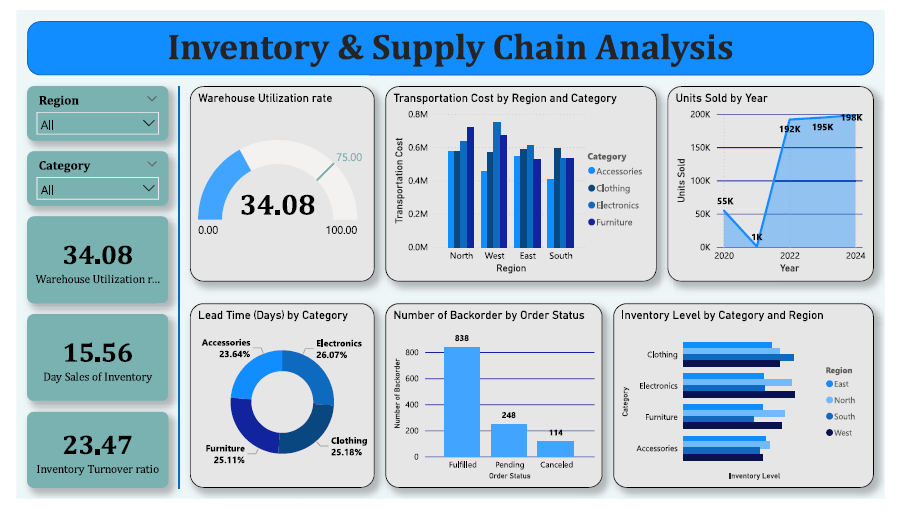

What the dashboard file says about the page in this screenshot:
{"tool":"powerbi","page":{"name":"Page 1","canvas":[1280,720],"ordinal":0},"visuals":[{"type":"shape","box":[16,16,1248,80],"z":0},{"type":"textbox","box":[16,16,1248,80],"z":1000},{"type":"shape","box":[224,112,32,592],"z":2000},{"type":"card","fields":{"Values":["Inventory & Supply Chain Dataset.Day Sales of Inventory"]},"box":[16,448,208,128],"z":3000},{"type":"card","fields":{"Values":["Inventory & Supply Chain Dataset.Inventory Turnover ratio"]},"box":[16,592,208,112],"z":4000},{"type":"card","fields":{"Values":["Inventory & Supply Chain Dataset.Warehouse Utilization rate"]},"box":[16,304,208,128],"z":5000},{"type":"slicer","fields":{"Values":["Inventory & Supply Chain Dataset.Region"]},"box":[16,112,208,80],"z":7000},{"type":"slicer","fields":{"Values":["Inventory & Supply Chain Dataset.Category"]},"box":[16,208,208,80],"z":8000},{"type":"gauge","fields":{"Y":["Inventory & Supply Chain Dataset.Warehouse Utilization rate"]},"box":[256,112,272,288],"z":9000},{"type":"clusteredColumnChart","fields":{"Y":["Sum(Inventory & Supply Chain Dataset.Transportation Cost)"],"Category":["Inventory & Supply Chain Dataset.Region"],"Series":["Inventory & Supply Chain Dataset.Category"]},"box":[544,112,400,288],"z":10000},{"type":"areaChart","fields":{"Y":["Sum(Inventory & Supply Chain Dataset.Units Sold)"],"Category":["Inventory & Supply Chain Dataset.Date.Variation.Date Hierarchy.Year"]},"box":[960,112,304,288],"z":11000},{"type":"donutChart","fields":{"Y":["Sum(Inventory & Supply Chain Dataset.Lead Time (Days))"],"Category":["Inventory & Supply Chain Dataset.Category"]},"box":[256,432,272,272],"z":12000},{"type":"columnChart","fields":{"Y":["CountNonNull(Inventory & Supply Chain Dataset.Backorder)"],"Category":["Inventory & Supply Chain Dataset.Order Status"]},"box":[544,432,320,272],"z":13000},{"type":"clusteredBarChart","fields":{"Y":["Sum(Inventory & Supply Chain Dataset.Inventory Level)"],"Category":["Inventory & Supply Chain Dataset.Category"],"Series":["Inventory & Supply Chain Dataset.Region"]},"box":[880,432,384,272],"z":14000}]}

Visuals, with their boxes in screenshot pixels (x1, y1, x2, y2), scaled from the page's 1280x720 canvas onto the 901x510 screenshot:
shape: <region>11, 11, 890, 68</region>
textbox: <region>11, 11, 890, 68</region>
shape: <region>158, 79, 180, 499</region>
card - Inventory & Supply Chain Dataset.Day Sales of Inventory: <region>11, 317, 158, 408</region>
card - Inventory & Supply Chain Dataset.Inventory Turnover ratio: <region>11, 419, 158, 499</region>
card - Inventory & Supply Chain Dataset.Warehouse Utilization rate: <region>11, 215, 158, 306</region>
slicer - Inventory & Supply Chain Dataset.Region: <region>11, 79, 158, 136</region>
slicer - Inventory & Supply Chain Dataset.Category: <region>11, 147, 158, 204</region>
gauge - Inventory & Supply Chain Dataset.Warehouse Utilization rate: <region>180, 79, 372, 283</region>
clusteredColumnChart - Sum(Inventory & Supply Chain Dataset.Transportation Cost) x Inventory & Supply Chain Dataset.Region: <region>383, 79, 664, 283</region>
areaChart - Sum(Inventory & Supply Chain Dataset.Units Sold) x Inventory & Supply Chain Dataset.Date.Variation.Date Hierarchy.Year: <region>676, 79, 890, 283</region>
donutChart - Sum(Inventory & Supply Chain Dataset.Lead Time (Days)) x Inventory & Supply Chain Dataset.Category: <region>180, 306, 372, 499</region>
columnChart - CountNonNull(Inventory & Supply Chain Dataset.Backorder) x Inventory & Supply Chain Dataset.Order Status: <region>383, 306, 608, 499</region>
clusteredBarChart - Sum(Inventory & Supply Chain Dataset.Inventory Level) x Inventory & Supply Chain Dataset.Category: <region>619, 306, 890, 499</region>
